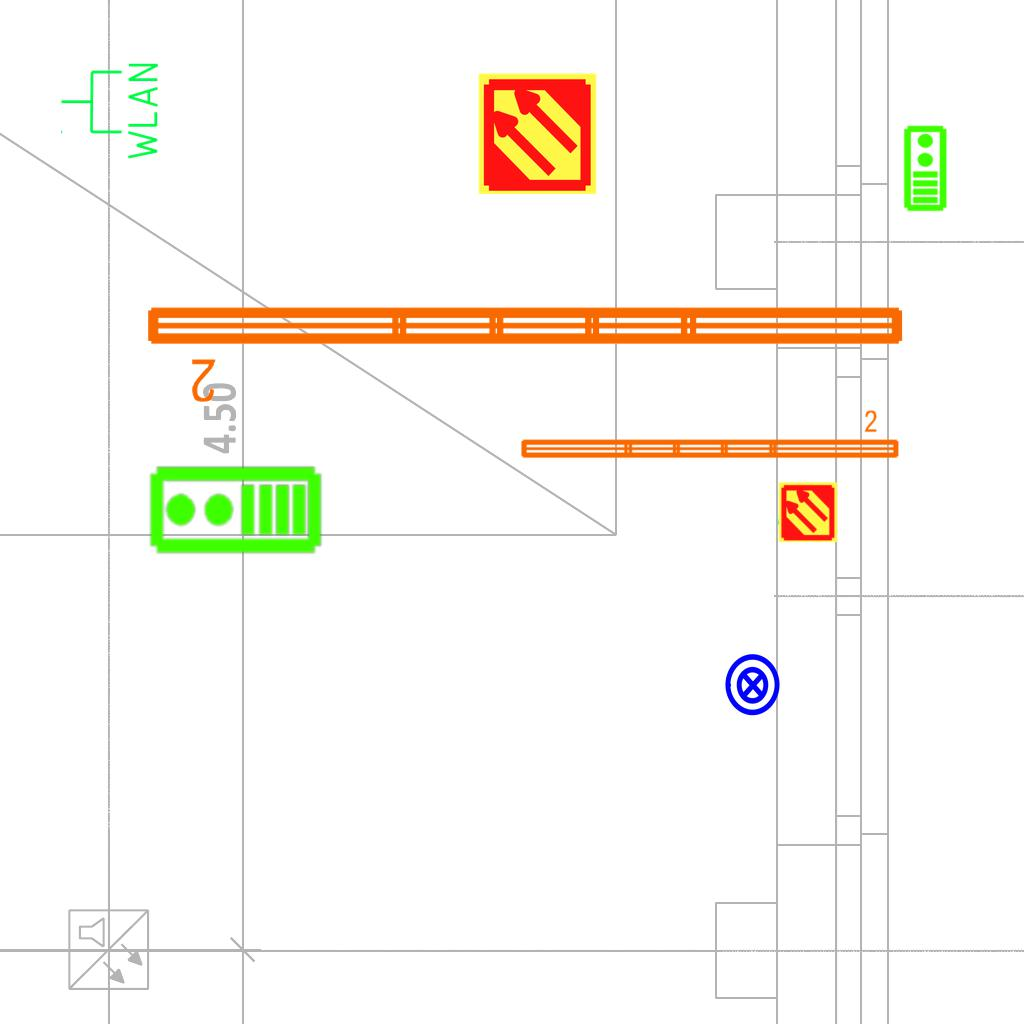ASR_Ansaugrauchmelder: (475, 71, 600, 196), (777, 481, 839, 543)
Ambulanz_Pendelleuchte_LED: (139, 295, 913, 407), (516, 408, 903, 464)
Gegensprechanlage_mit_Video: (147, 464, 323, 559), (901, 124, 948, 212)
Taster_beleuchtet: (720, 652, 786, 718)
WLAN: (58, 59, 162, 164), (771, 476, 841, 546)
